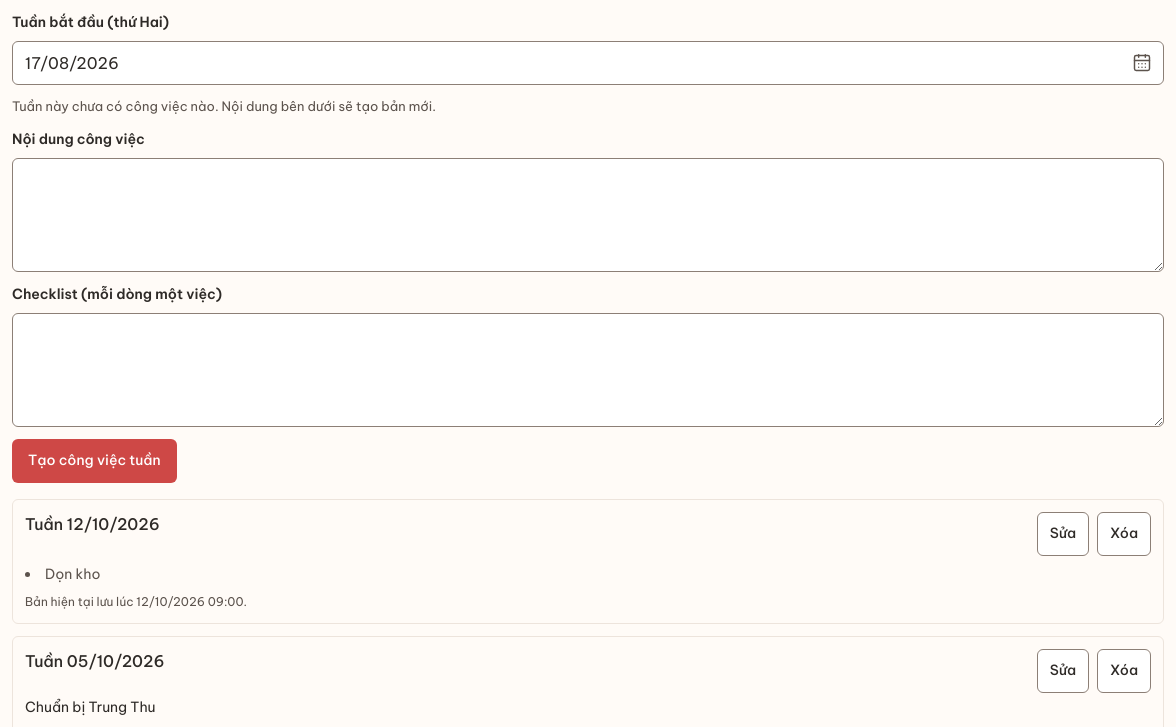
Test: WeeklyPlanEditor — chống ghi đè mù (F11) › nạp sẵn nội dung và checklist khi tuần đang chọn đã có bản
# Mặc định là tuần hiện tại, gần như chắc chắn chưa có bản trong fixture này.
Step 1. Replace the text in the field labelled "Tuần bắt đầu (thứ Hai)" with "2026-10-05" → x=588, y=63, box [12,41,1164,85]
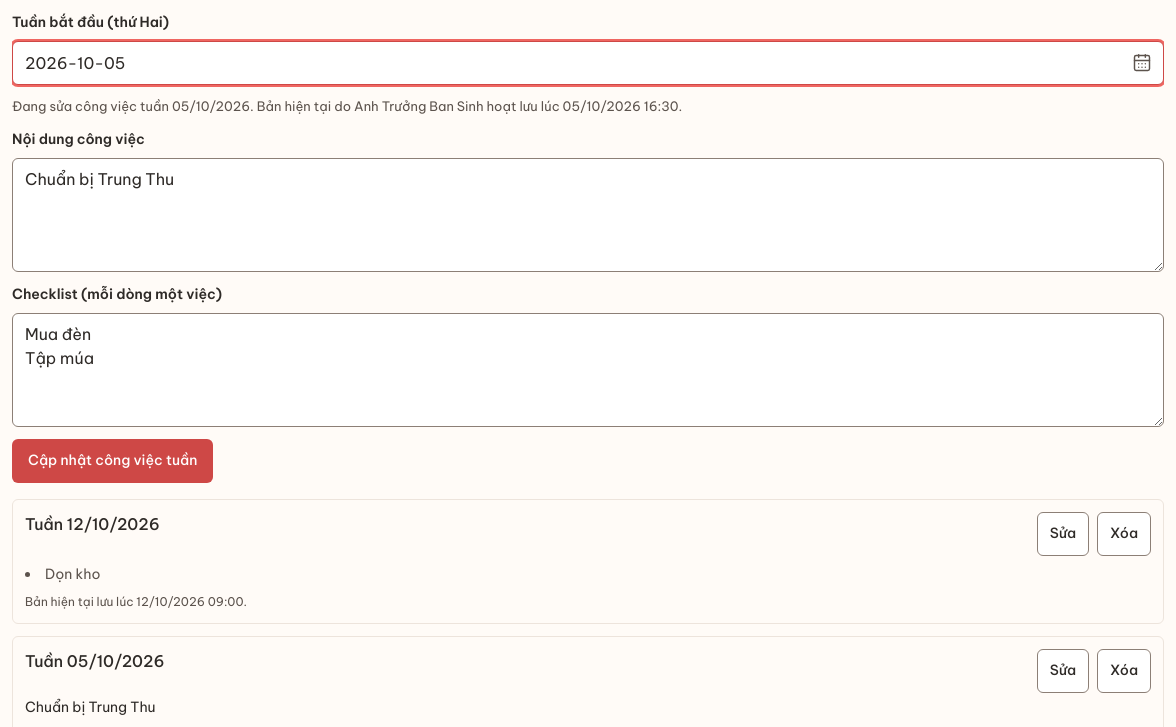
Check: the text box labelled "Nội dung công việc" holds "Chuẩn bị Trung Thu", box [12,158,1164,272]
